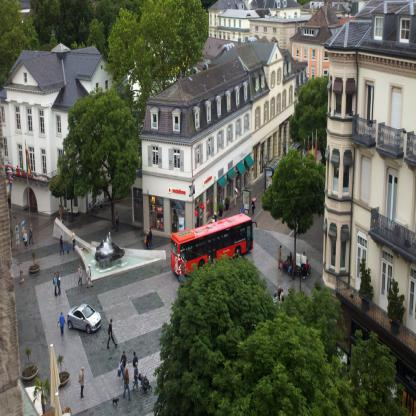Bus: (170, 211, 257, 282)
